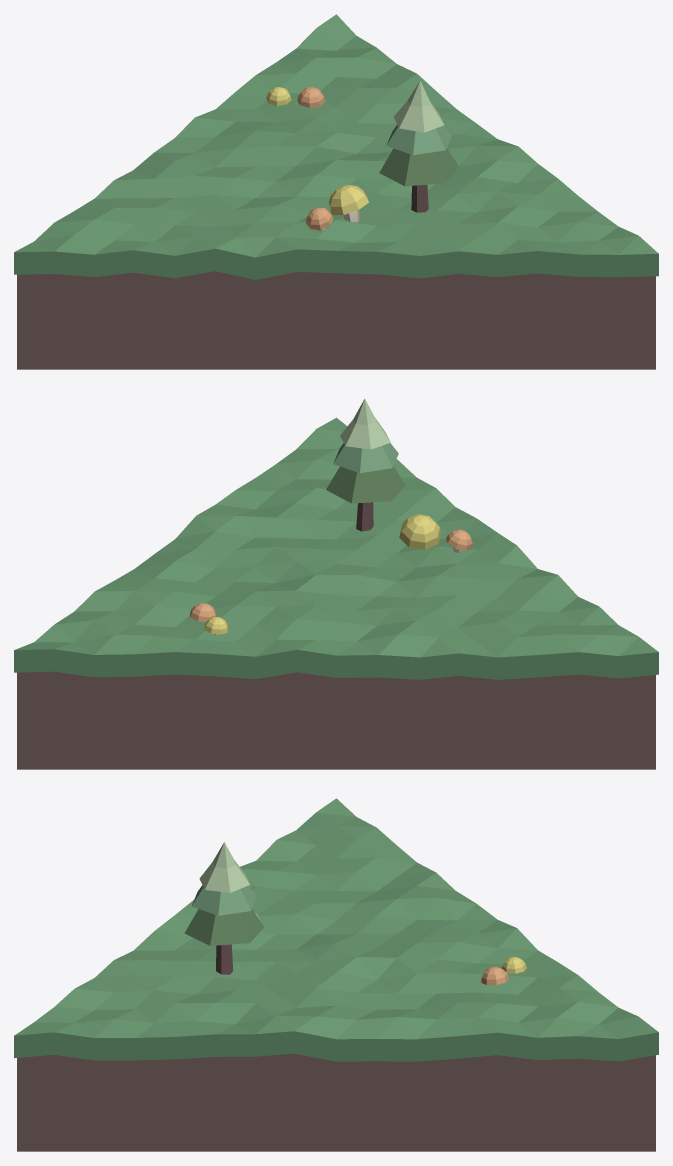
File: TILE_01_01_Forest.fbx
3 views of the same model, one above another, from view 1: azimuth 30°, elevation 25°; view 2: azimuth 150°, elevation 25°; view 3: azimuth 270°, elevation 25° (orthographic).
Visible parts, largest first — view 1: TILESURFACE7, TILE, pCylinder7, pCylinder10, pCylinder8, pSphere3; view 2: TILESURFACE7, TILE, pCylinder7, pCylinder8, pCylinder10, pSphere3; view 3: TILESURFACE7, TILE, pCylinder7, pCylinder10, pCylinder8.
Part boxes in pixels (box(x1,y1,x2,y2)): TILESURFACE7: box(14, 14, 658, 279); TILE: box(17, 271, 655, 369); pCylinder7: box(379, 148, 458, 186); pCylinder10: box(394, 81, 444, 132); pCylinder8: box(386, 125, 451, 155); pSphere3: box(329, 185, 368, 214); TILESURFACE7: box(14, 417, 658, 679); TILE: box(17, 671, 655, 769); pCylinder7: box(326, 466, 405, 503); pCylinder8: box(333, 443, 398, 473); pCylinder10: box(340, 398, 390, 449); pSphere3: box(399, 514, 440, 549); TILESURFACE7: box(14, 798, 658, 1061); TILE: box(17, 1053, 655, 1151); pCylinder7: box(184, 908, 264, 945); pCylinder10: box(199, 842, 250, 892); pCylinder8: box(192, 885, 256, 915).
Bounding box in the file's own units: 151 × 73.43 × 175.
